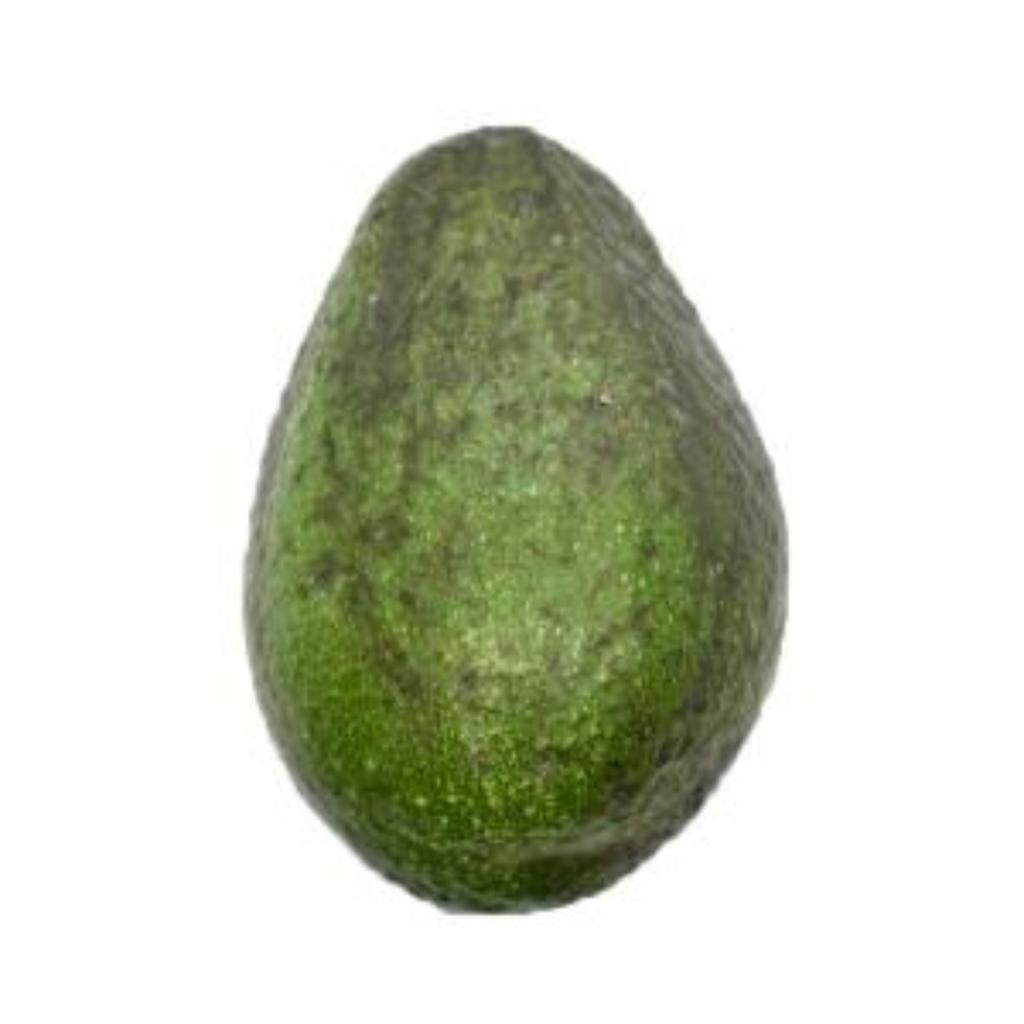cercospora_spot: (240, 118, 794, 920)
